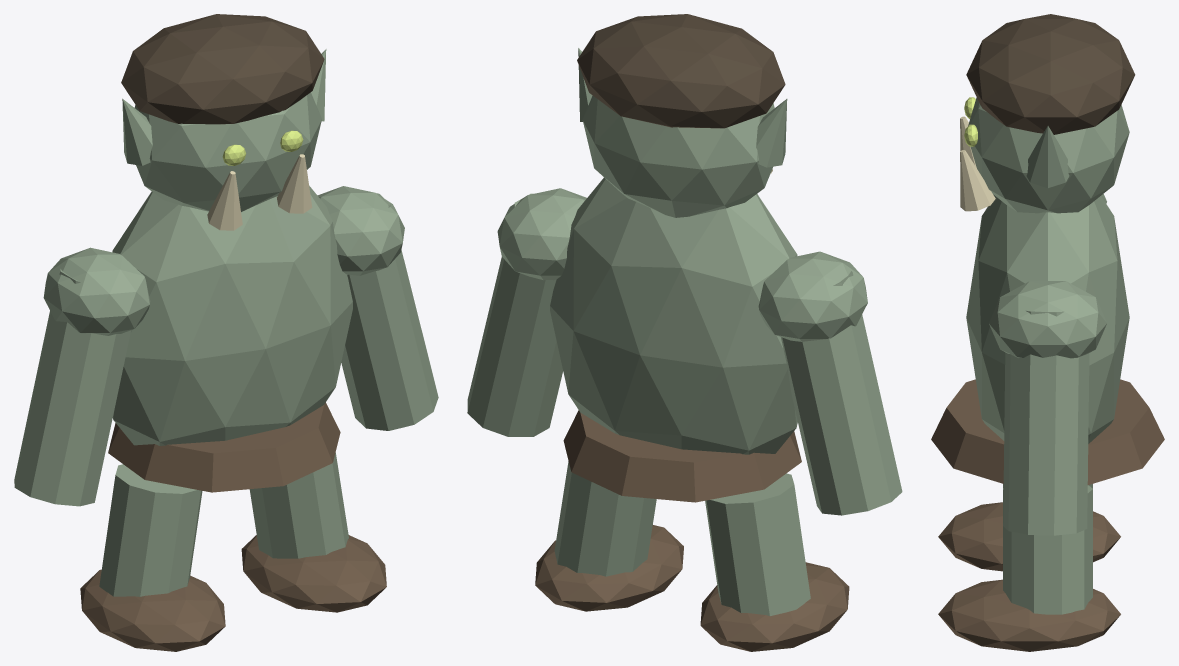
Rendered from troll.glb.
The picture shows the model from 3 angles, left to right: view 1: azimuth 30°, elevation 25°; view 2: azimuth 150°, elevation 25°; view 3: azimuth 270°, elevation 25°; orthographic projection. The views are drawn at different scales.
Parts seen in each view (by area): view 1: Body, Hair, Arm_L, Head, Arm_R, WaistWrap, Leg_L, Foot_L, Foot_R, Shoulder_L, Leg_R, Shoulder_R (+3 smaller); view 2: Body, Hair, Arm_L, Head, Arm_R, WaistWrap, Leg_L, Leg_R, Shoulder_L, Foot_L, Foot_R, Shoulder_R (+1 smaller); view 3: Body, Hair, Arm_R, Head, WaistWrap, Foot_R, Shoulder_R, Leg_R, Foot_L, Ear_R, Tusk_R.
Part boxes in pixels (<box>): Body: <box>112,185,352,445</box>; Hair: <box>121,14,324,124</box>; Arm_L: <box>14,269,130,506</box>; Head: <box>134,92,321,211</box>; Arm_R: <box>341,193,438,430</box>; WaistWrap: <box>108,402,340,492</box>; Leg_L: <box>99,464,202,596</box>; Foot_L: <box>80,569,225,651</box>; Foot_R: <box>241,535,386,612</box>; Shoulder_L: <box>43,247,150,335</box>; Leg_R: <box>249,452,348,558</box>; Shoulder_R: <box>317,186,404,275</box>; Body: <box>550,177,797,454</box>; Hair: <box>577,14,785,128</box>; Arm_L: <box>781,271,902,515</box>; Head: <box>582,95,774,217</box>; Arm_R: <box>467,193,562,436</box>; WaistWrap: <box>563,410,801,502</box>; Leg_L: <box>705,473,810,615</box>; Leg_R: <box>554,461,656,576</box>; Shoulder_L: <box>758,251,867,341</box>; Foot_L: <box>700,562,849,651</box>; Foot_R: <box>535,525,683,611</box>; Shoulder_R: <box>497,188,586,280</box>; Body: <box>966,196,1129,443</box>; Hair: <box>966,14,1135,134</box>; Arm_R: <box>1003,310,1089,535</box>; Head: <box>968,97,1129,213</box>; WaistWrap: <box>931,379,1164,485</box>; Foot_R: <box>938,579,1120,651</box>; Shoulder_R: <box>989,281,1106,358</box>; Leg_R: <box>1003,485,1092,614</box>; Foot_L: <box>938,502,1120,571</box>; Ear_R: <box>1026,126,1069,187</box>; Tusk_R: <box>960,150,995,211</box>.
Size of the model in its own units: 3.33 by 4.46 by 1.66.
